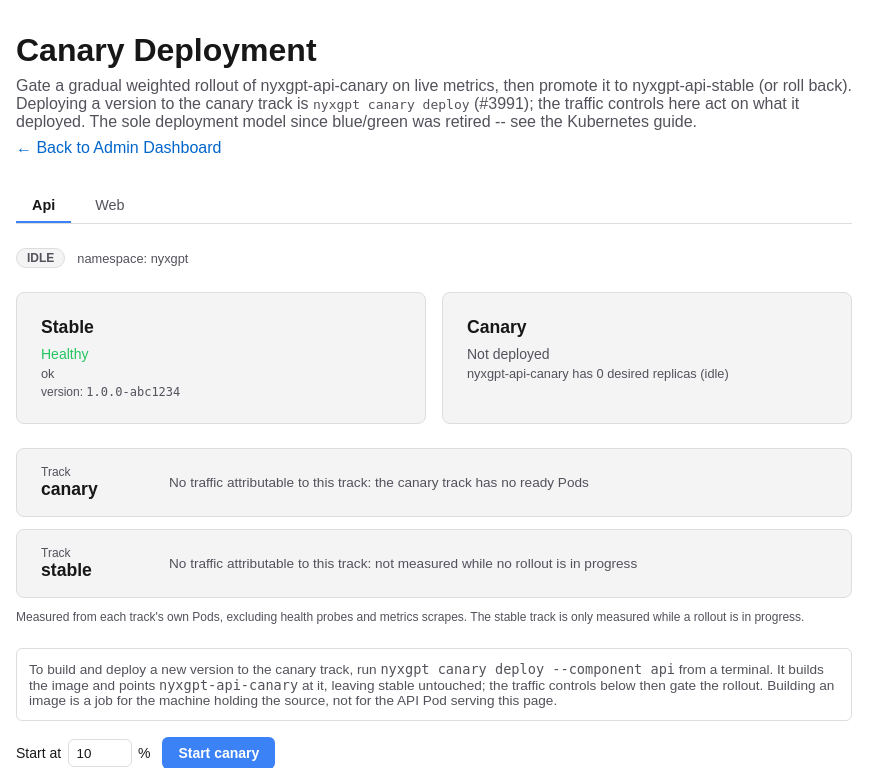
Test: CanaryPage › renders metrics, history entries, and starts a canary rollout at the chosen weight
This screenshot has width=869, height=768.
Expected: the text "IDLE" is shown, 16,248 -> 65,268
Replace the text in the number field showing "10" with "15" at x=100, y=753, box 68,739 -> 132,767
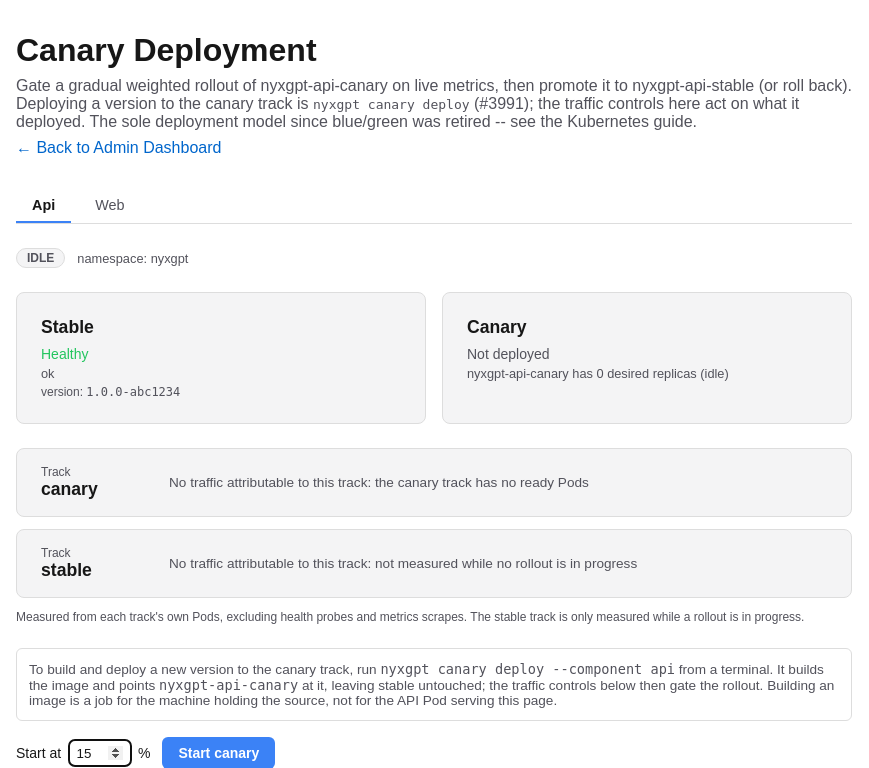
Click the button "Start canary" at x=219, y=753, box 162,737 -> 275,767
(page scrolled)
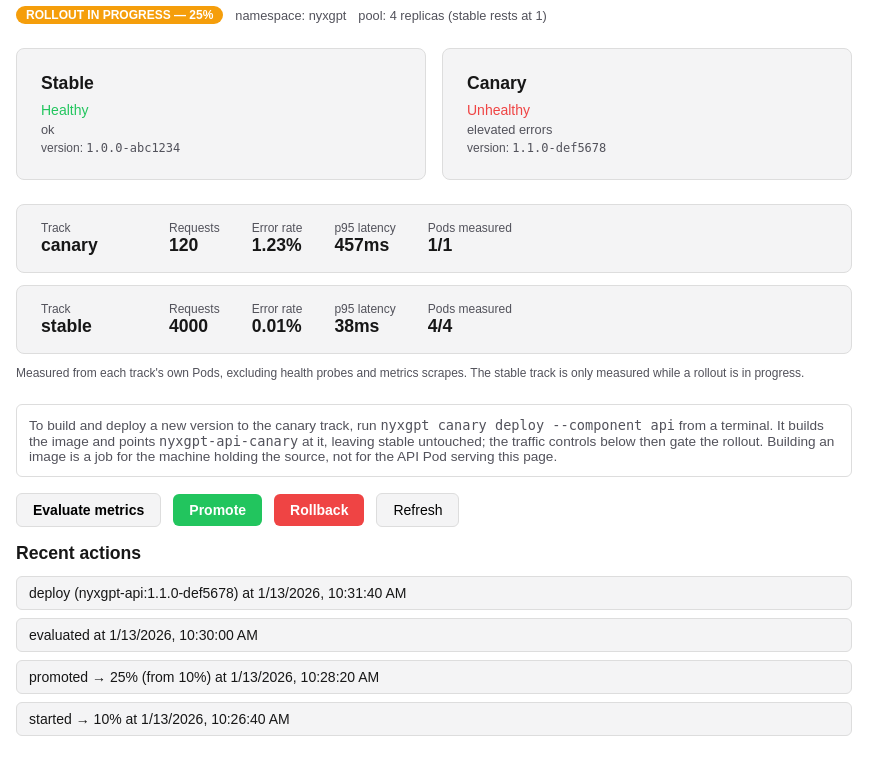
Expected: the text "ROLLOUT IN PROGRESS — 25%" is shown, 16,6 -> 223,24
Expected: the text "pool: 4 replicas (stable rests at 1)" is shown, 358,8 -> 547,22
Expected: the text "120" is shown, 169,235 -> 198,255
